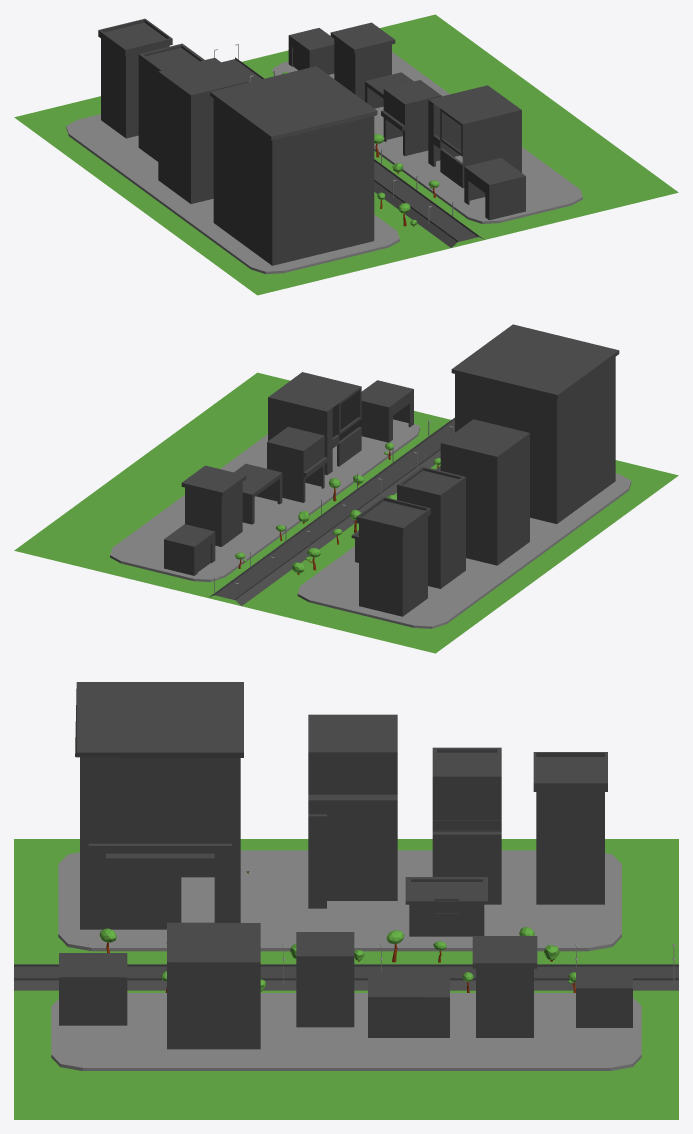
3 renders of one model, top to bottom at view 1: azimuth 30°, elevation 25°; view 2: azimuth 150°, elevation 25°; view 3: azimuth 270°, elevation 25°, orthographic. The views are drawn at different scales.
Visible parts, largest first — view 1: Cube.001; view 2: Cube.001; view 3: Cube.001.
Part boxes in pixels (x1,y1,x2,y2): Cube.001: (14, 14, 678, 295); Cube.001: (14, 324, 678, 653); Cube.001: (14, 682, 678, 1119).
Size of the model in its own units: 20000 by 6028 by 20000.
